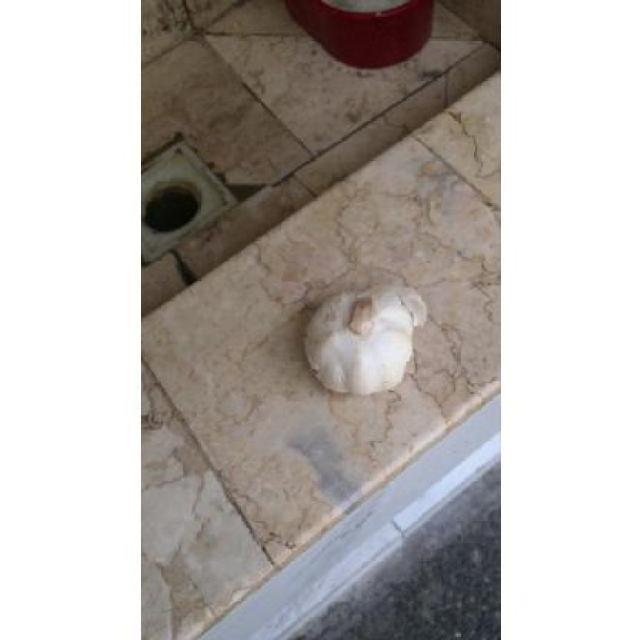garlic: (305, 286, 428, 394)
